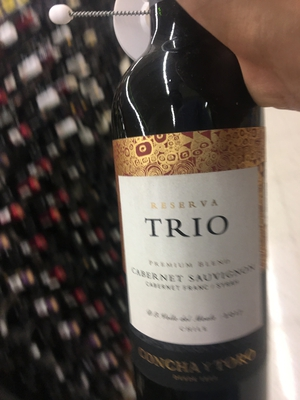trio cabernet sauvignon: (100, 24, 287, 400)
